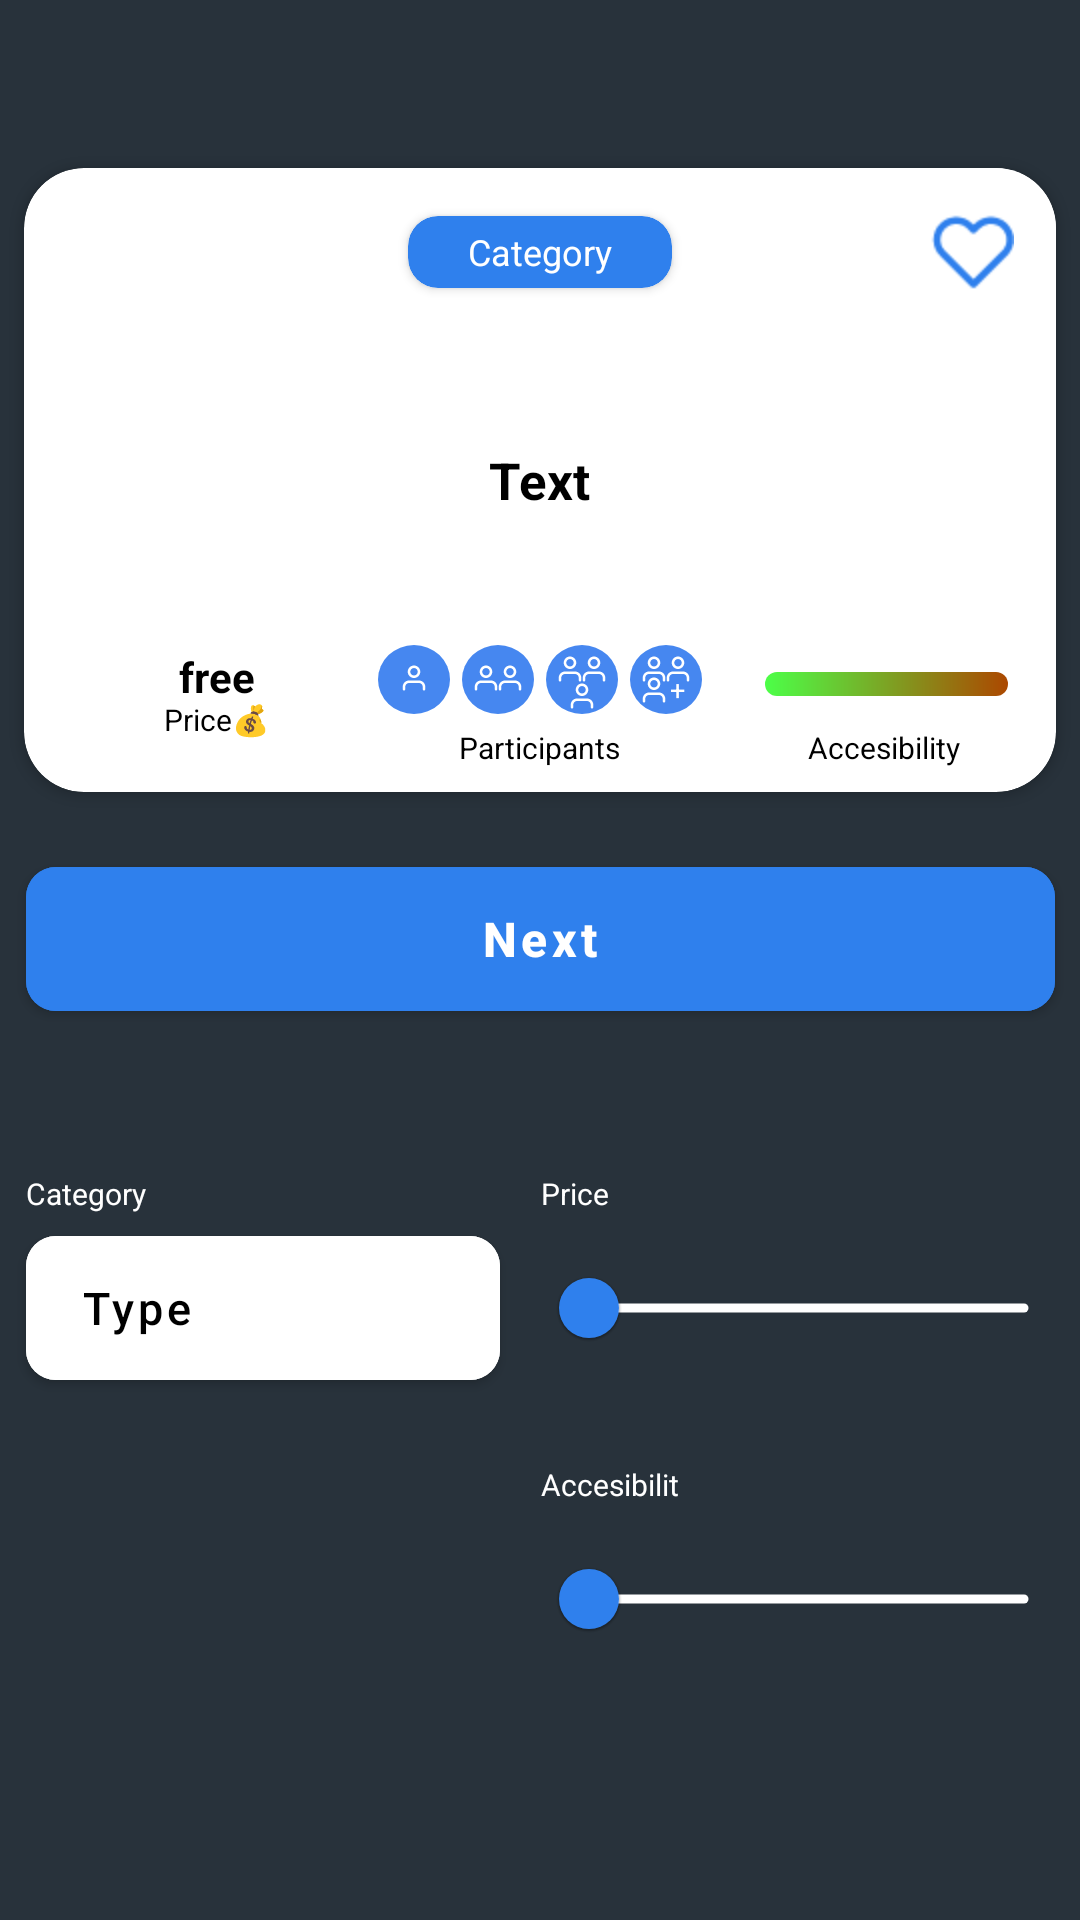

Screen size 1080px x 1920px. Icon name, then its box in pixels as (x1, y1, x2, y2):
user: (378, 645, 450, 714), (462, 645, 534, 714), (546, 645, 618, 714), (630, 645, 702, 714)
